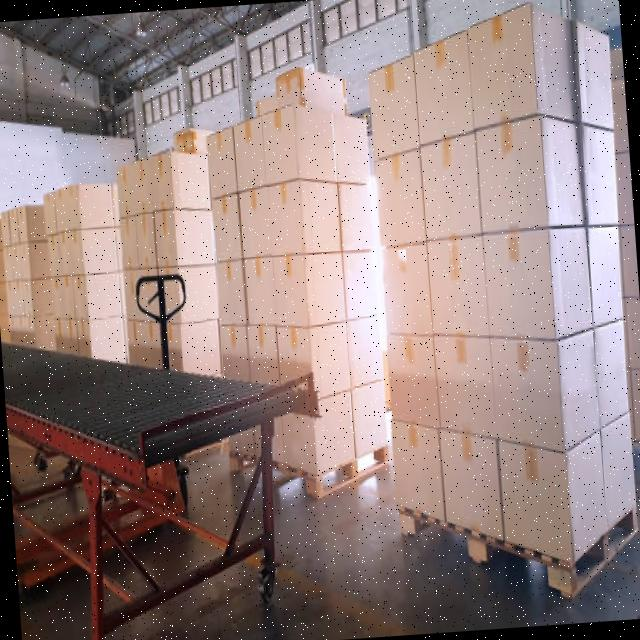Wooden-Pallets: (394, 499, 640, 602), (313, 437, 394, 513)
